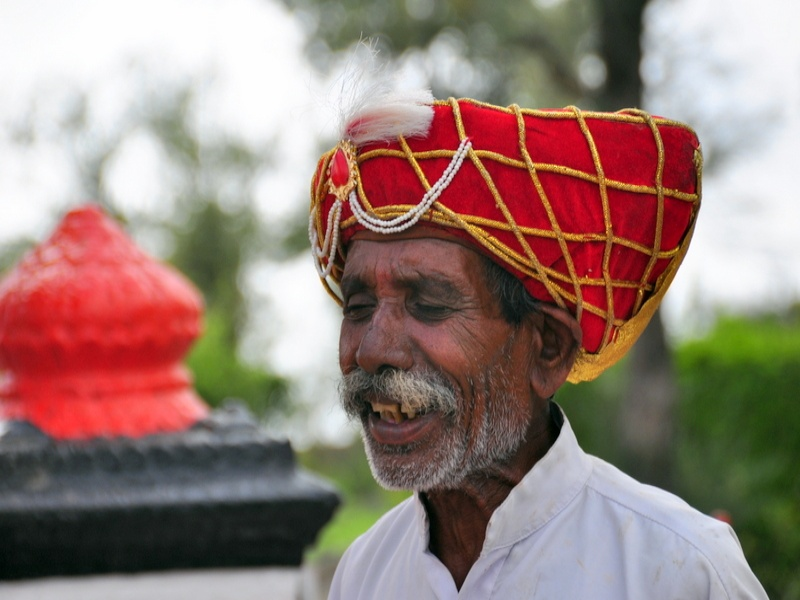face: (339, 234, 584, 492)
